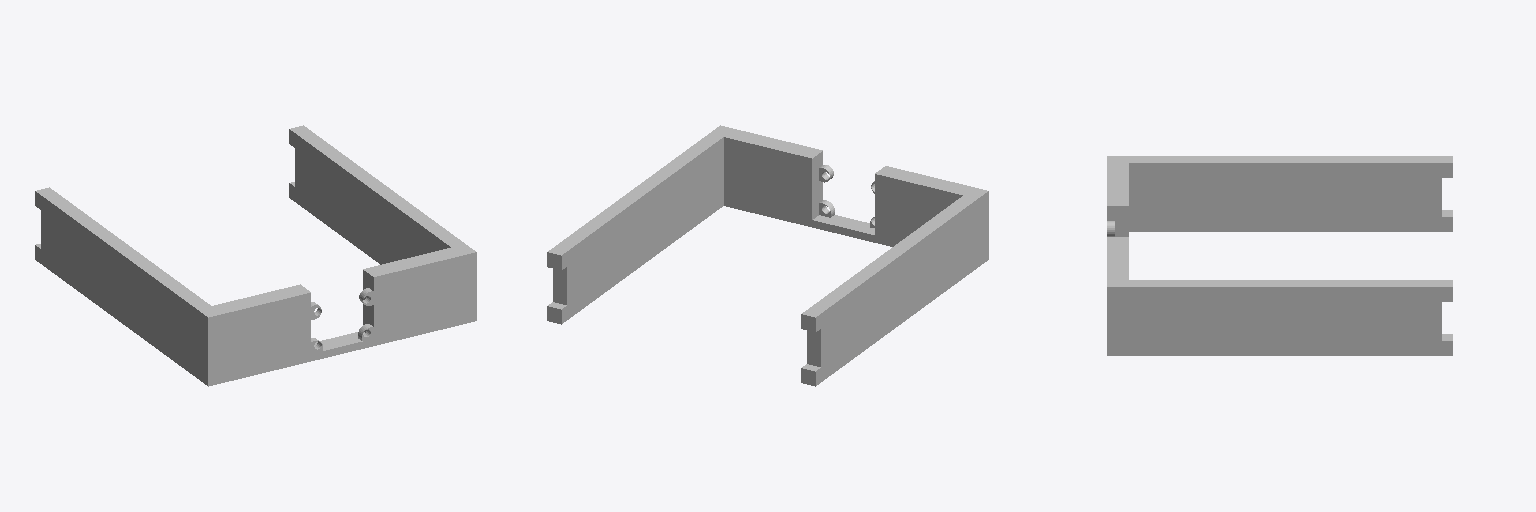
File: Держатель для камеры.obj
3 renders of one model, left to right at view 1: azimuth 30°, elevation 25°; view 2: azimuth 150°, elevation 25°; view 3: azimuth 270°, elevation 25°, orthographic.
Visible parts, largest first — view 1: Твердое тело1; view 2: Твердое тело1; view 3: Твердое тело1.
Part boxes in pixels (x1,y1,x2,y2): Твердое тело1: (35, 125, 476, 386); Твердое тело1: (547, 125, 988, 386); Твердое тело1: (1107, 156, 1452, 355).
Bounding box in the file's own units: 112 × 27.5 × 125.